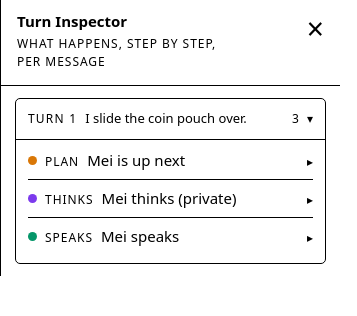
TurnInspectorPanel › hides a step's detail until its row is expanded (per-entry dropdown)
The image size is (357, 316).
Expected: the text "Coin first, favor later." is not shown
// … and revealed when the row is activated (keyboard-operable button).
Step 1. Click the button "Thinks Mei thinks (private) ▸" → x=170, y=198, box [28,180,313,216]
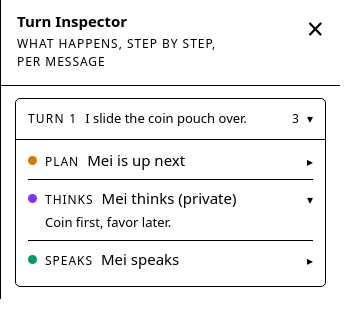
Now the button "Thinks Mei thinks (private) ▾ Coin first, favor later." is expanded, box [28,180,313,240]
Now the text "Coin first, favor later." is shown, box [45,212,171,230]
